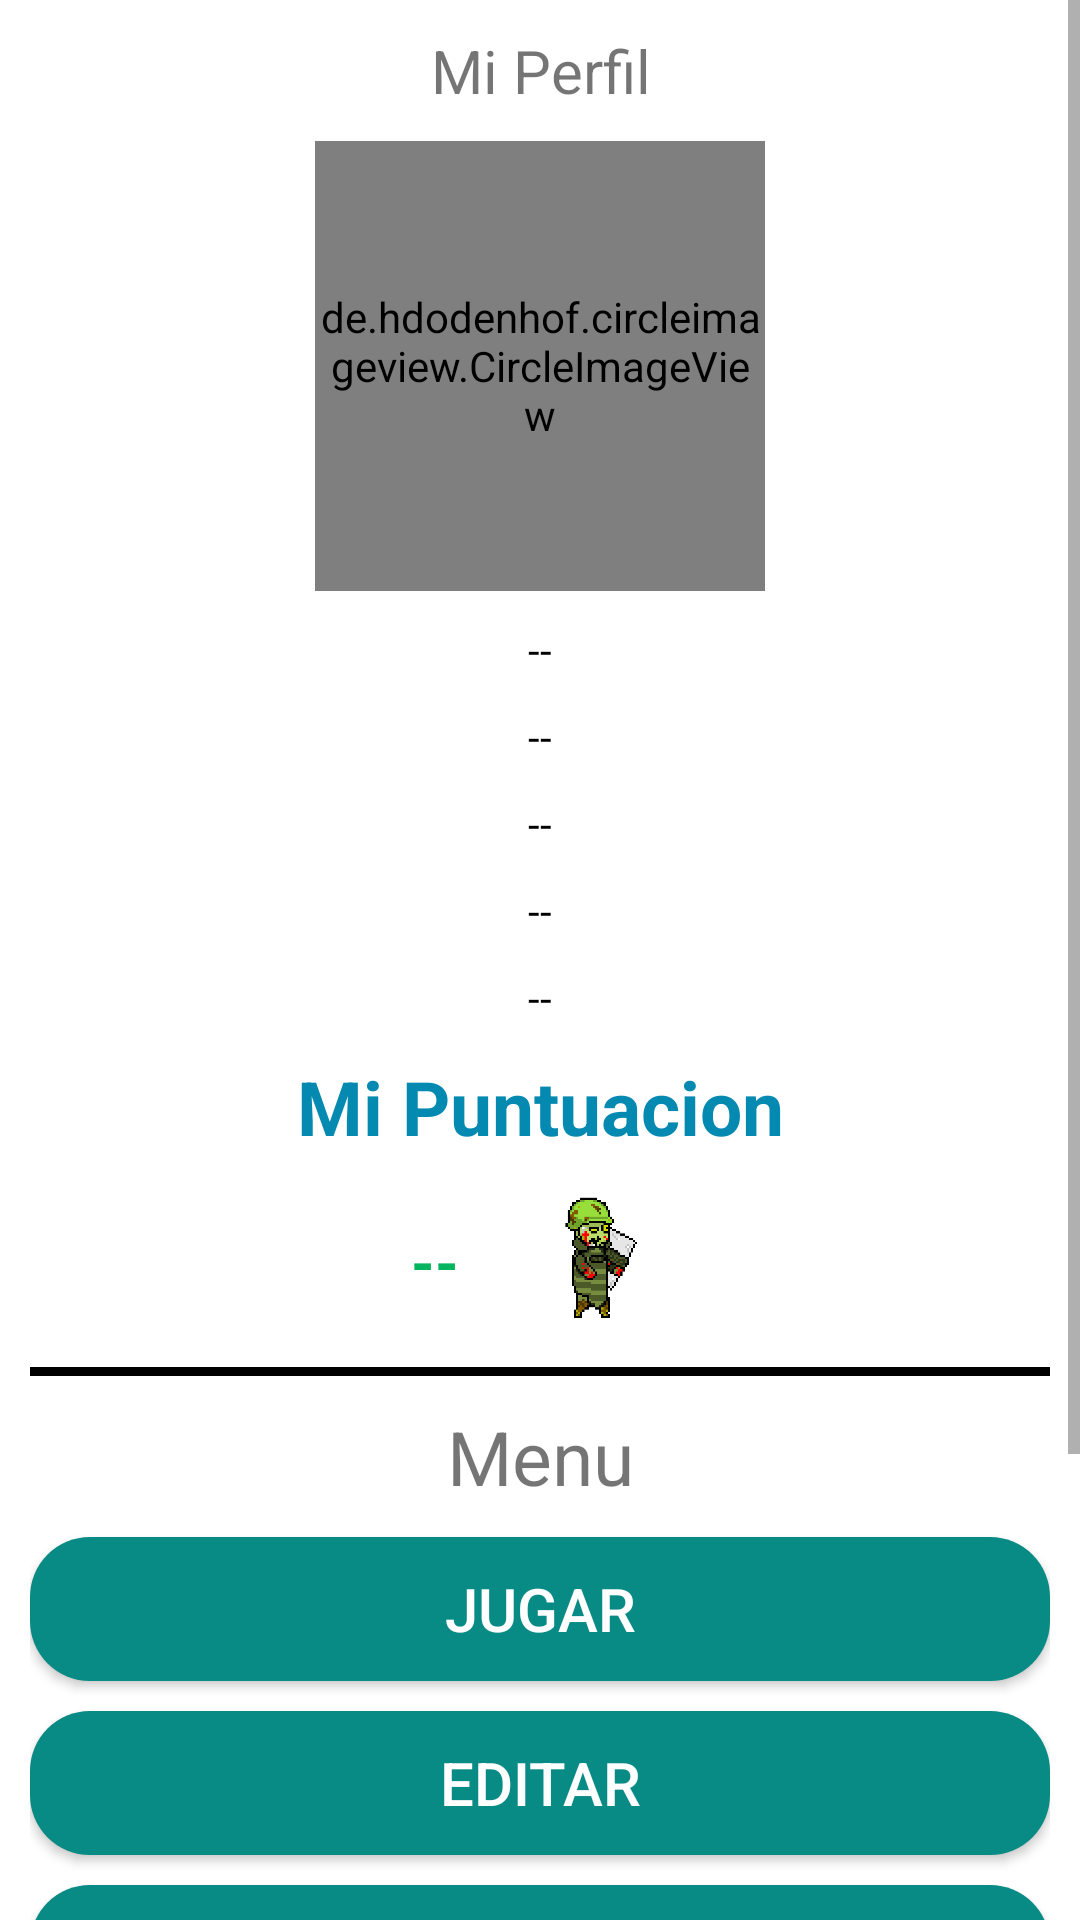

Named icons in this screenshot (1080×1920) and their bounding boxes, detection(x1, y1, x2, y2):
zombie: detection(565, 1197, 637, 1318)
